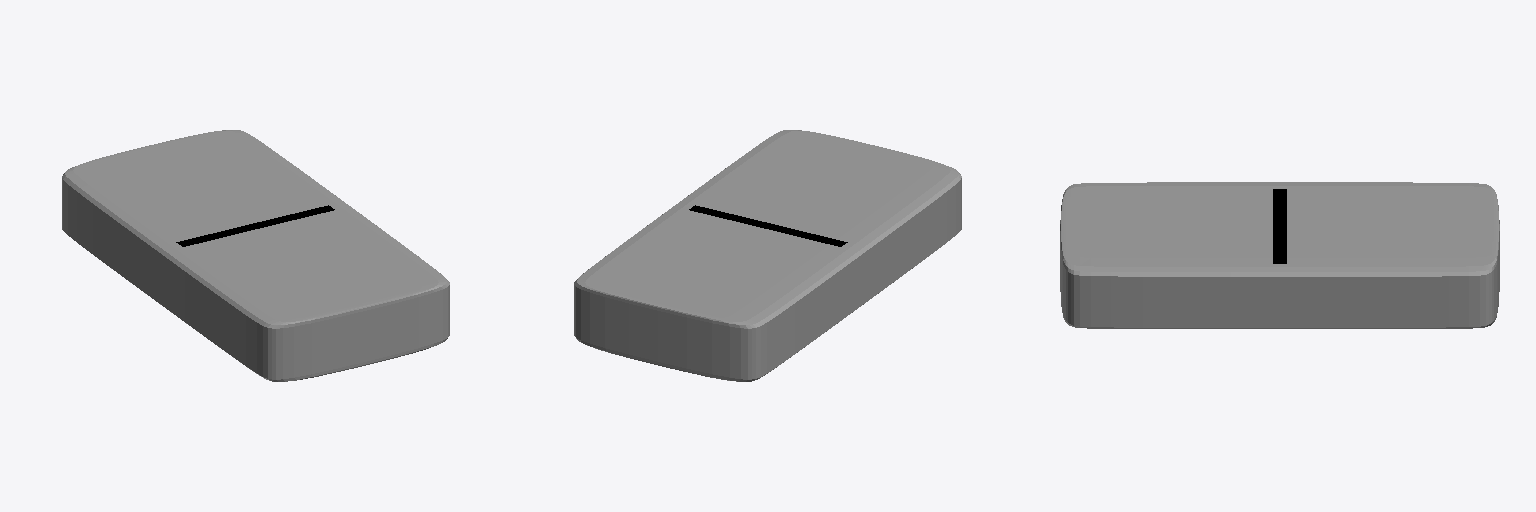
3 renders of one model, left to right at view 1: azimuth 30°, elevation 25°; view 2: azimuth 150°, elevation 25°; view 3: azimuth 270°, elevation 25°, orthographic.
Parts seen in each view (by area): view 1: Domino_1-1.001_Cube.000; view 2: Domino_1-1.001_Cube.000; view 3: Domino_1-1.001_Cube.000.
Boxes of the visible parts, x1,y1,x2,y2 form: Domino_1-1.001_Cube.000: [62, 130, 449, 381]; Domino_1-1.001_Cube.000: [574, 130, 961, 381]; Domino_1-1.001_Cube.000: [1060, 182, 1499, 328].
Size of the model in its own units: 2 by 0.5993 by 3.99.